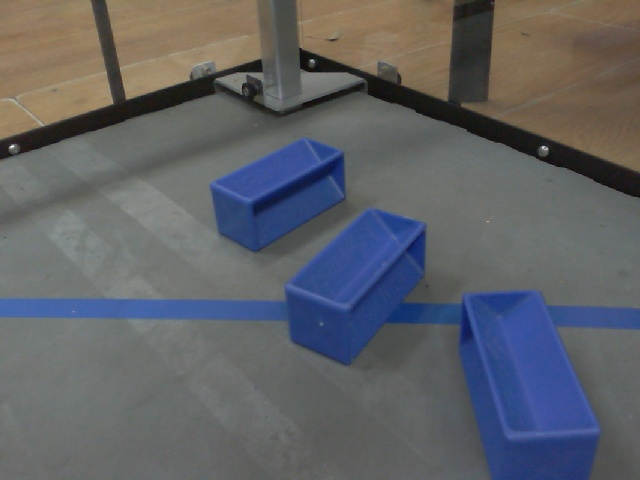BlueSample: (451, 284, 604, 480), (282, 205, 429, 369), (202, 136, 348, 253)
